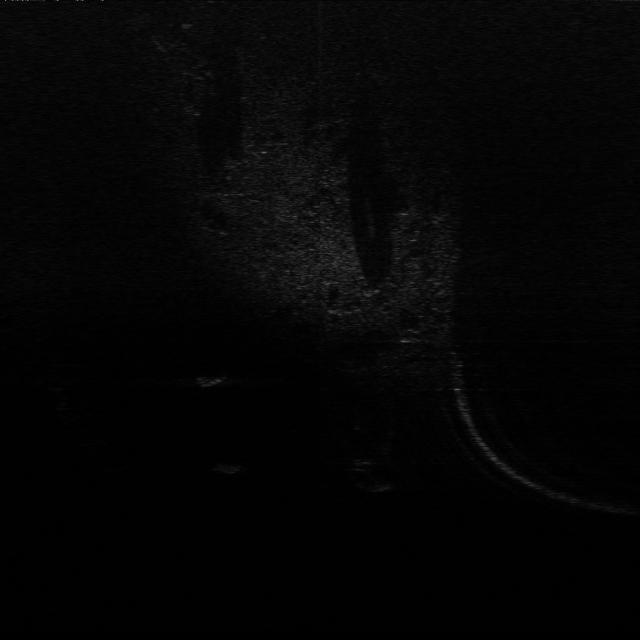cube: (210, 449, 250, 477)
square cage: (192, 362, 232, 389)
tyre: (347, 455, 398, 495)
